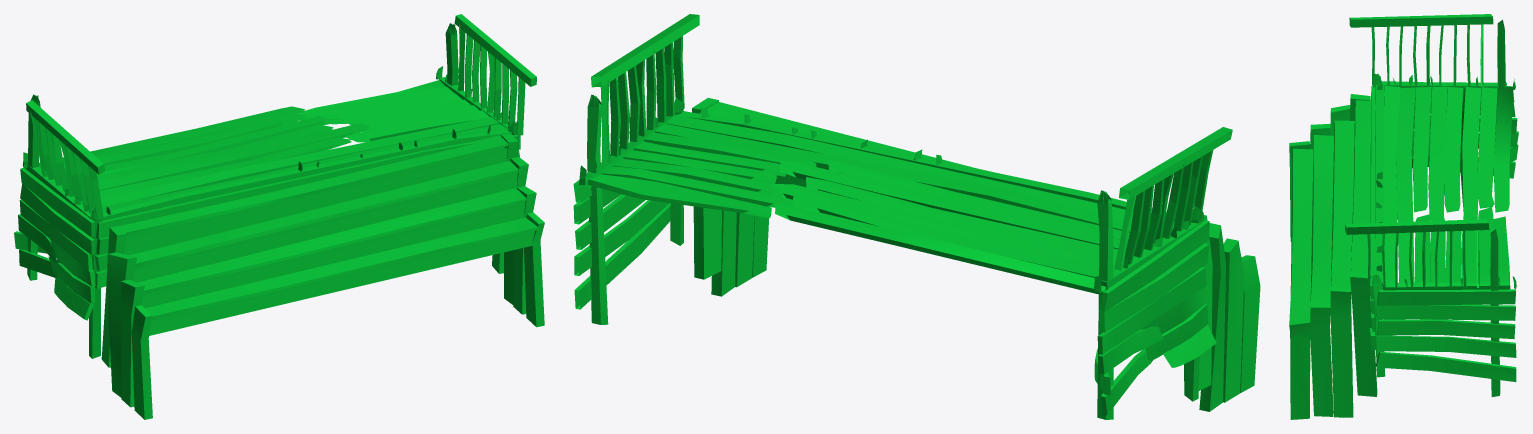
Rendered from SM_SmallLodge_Entrance.fbx.
3 views of the same model, side by side, from view 1: azimuth 30°, elevation 25°; view 2: azimuth 150°, elevation 25°; view 3: azimuth 270°, elevation 25° (orthographic). The views are drawn at different scales.
Visible parts, largest first — view 1: Stairs, SM_ST_SmallLodge01.mo, Limiter, Limiter2; view 2: SM_ST_SmallLodge01.mo, Stairs, Limiter, Limiter2; view 3: SM_ST_SmallLodge01.mo, Stairs, Limiter2, Limiter.
Boxes of the visible parts, x1=… form: Stairs: x1=101, y1=133, x2=544, y2=419; SM_ST_SmallLodge01.mo: x1=14, y1=23, x2=520, y2=358; Limiter: x1=454, y1=14, x2=536, y2=135; Limiter2: x1=26, y1=100, x2=105, y2=219; SM_ST_SmallLodge01.mo: x1=573, y1=94, x2=1216, y2=419; Stairs: x1=692, y1=98, x2=1260, y2=411; Limiter: x1=591, y1=14, x2=699, y2=162; Limiter2: x1=1114, y1=127, x2=1232, y2=270; SM_ST_SmallLodge01.mo: x1=1369, y1=19, x2=1518, y2=396; Stairs: x1=1289, y1=94, x2=1377, y2=419; Limiter2: x1=1349, y1=14, x2=1493, y2=86; Limiter: x1=1345, y1=219, x2=1489, y2=288.
Bounding box in the file's own units: 742 × 366 × 392.
